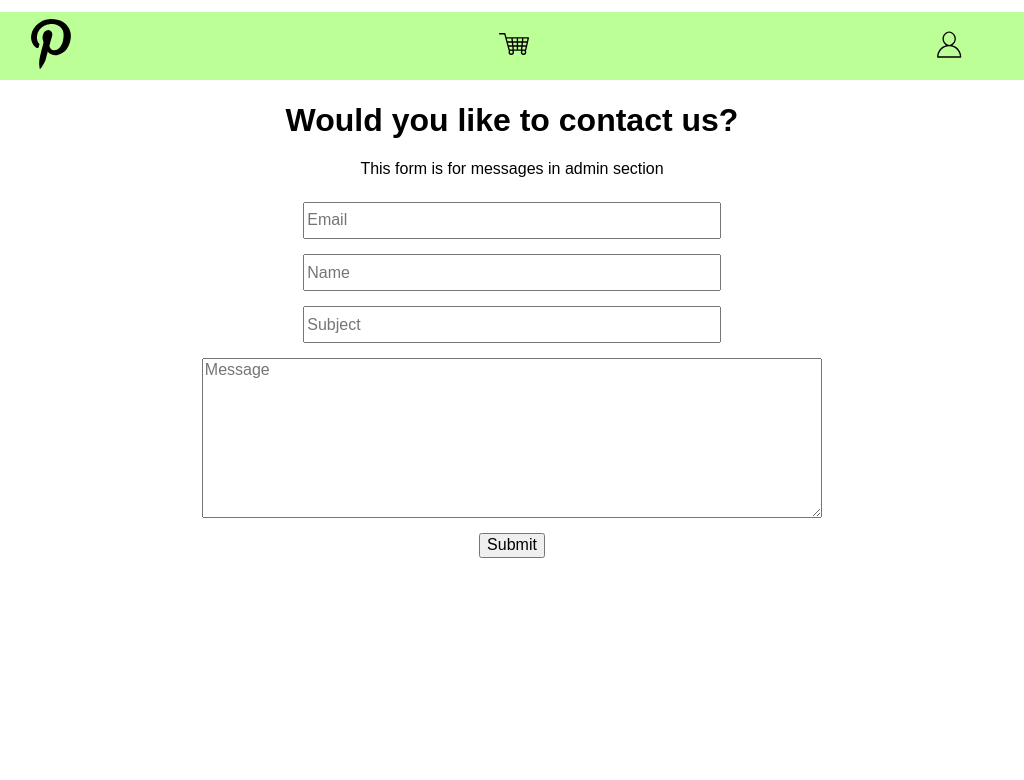
Test: Contact fields accept input › Message input is accepted
Click the text box with placeholder "Message". click: point(512, 438)
box: x1=202 y1=358 x2=822 y2=518
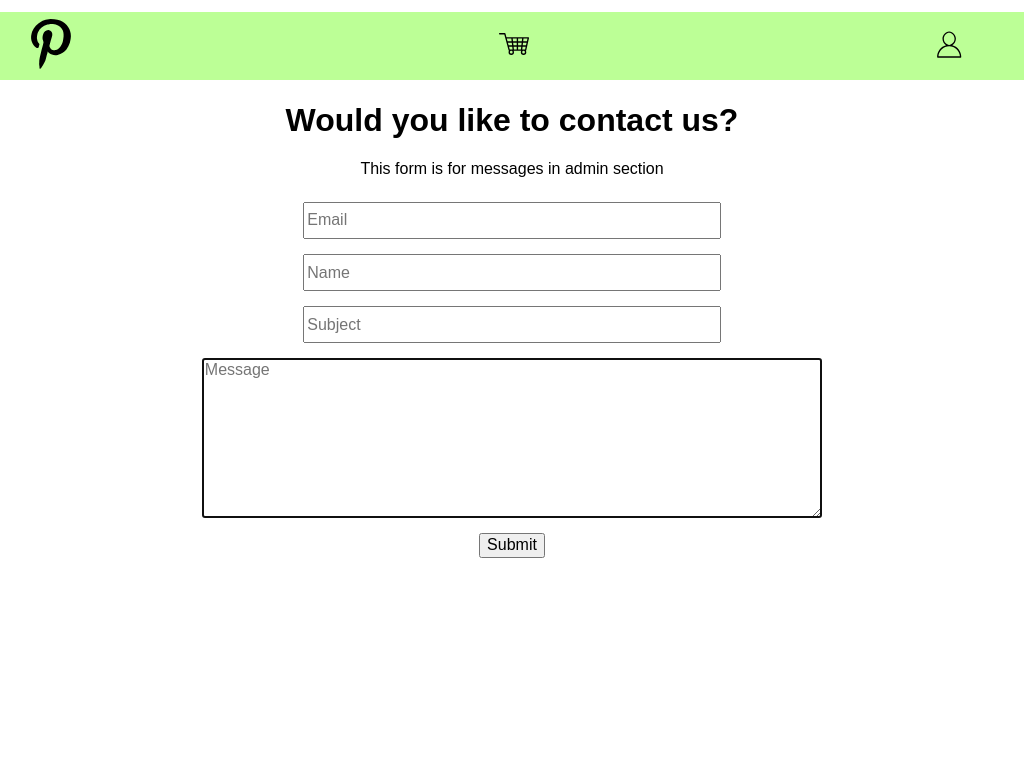
Type keys "test message 123"
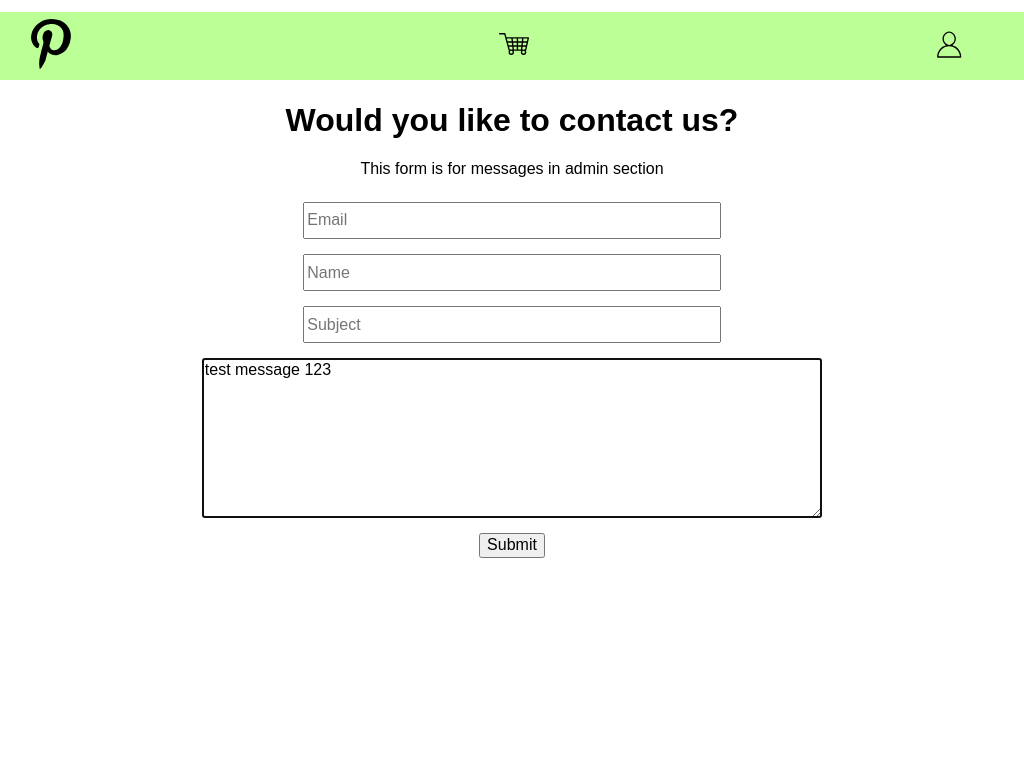
Expected: the text box with placeholder "Message" holds "test message 123", x1=202 y1=358 x2=822 y2=518
